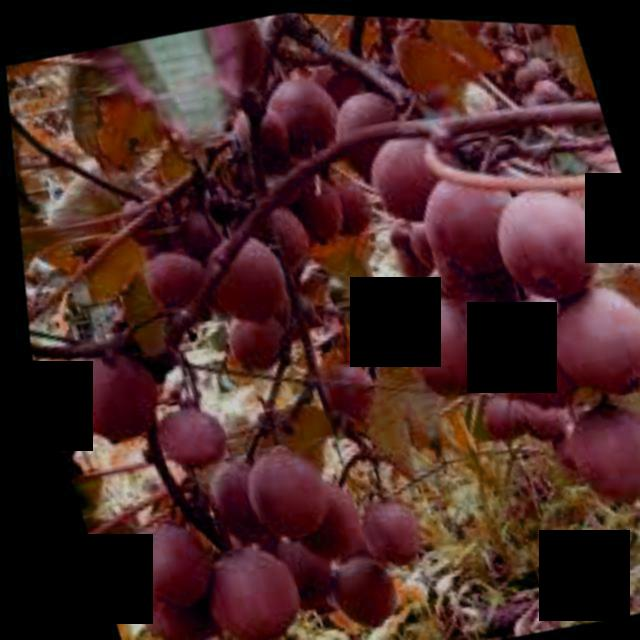kiwi: (475, 169, 605, 301), (399, 154, 528, 284), (384, 277, 509, 401), (525, 268, 640, 400), (468, 291, 585, 407), (353, 115, 476, 225), (177, 532, 299, 640), (47, 337, 161, 450), (106, 534, 220, 640), (545, 386, 640, 506), (104, 510, 208, 615), (323, 77, 421, 188), (189, 225, 290, 329), (226, 439, 325, 545), (221, 187, 313, 279), (269, 467, 359, 561), (253, 64, 343, 158), (313, 547, 392, 631), (189, 454, 263, 535), (142, 398, 223, 472), (270, 162, 345, 241), (341, 489, 413, 565), (212, 304, 290, 374), (130, 244, 206, 315), (260, 518, 329, 593), (308, 351, 373, 423), (394, 205, 461, 272), (313, 172, 374, 237), (110, 187, 172, 248), (510, 380, 569, 440), (163, 202, 219, 261), (467, 384, 522, 437), (539, 412, 589, 467), (379, 223, 429, 278)
